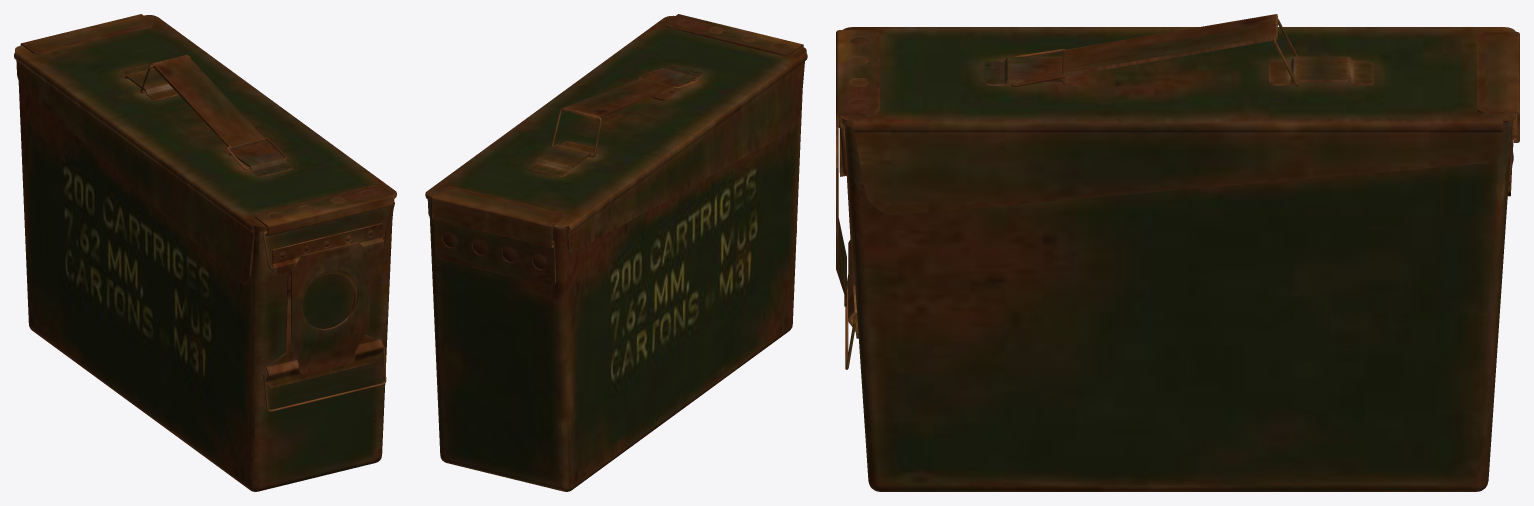
3 renders of one model, left to right at view 1: azimuth 30°, elevation 25°; view 2: azimuth 150°, elevation 25°; view 3: azimuth 270°, elevation 25°, orthographic. The views are drawn at different scales.
Visible parts, largest first — view 1: ammo_box, ammo_box_handle, ammo_box_latch; view 2: ammo_box, ammo_box_handle; view 3: ammo_box, ammo_box_handle.
Part boxes in pixels (x1,y1,x2,y2): ammo_box: [14, 14, 396, 491]; ammo_box_handle: [152, 54, 265, 149]; ammo_box_latch: [263, 345, 386, 411]; ammo_box: [425, 14, 807, 491]; ammo_box_handle: [563, 78, 675, 119]; ammo_box: [836, 27, 1519, 491]; ammo_box_handle: [1062, 14, 1277, 76].
Bounding box in the file's own units: 0.0866 × 0.1775 × 0.2579.
1 material, 1 textured.
